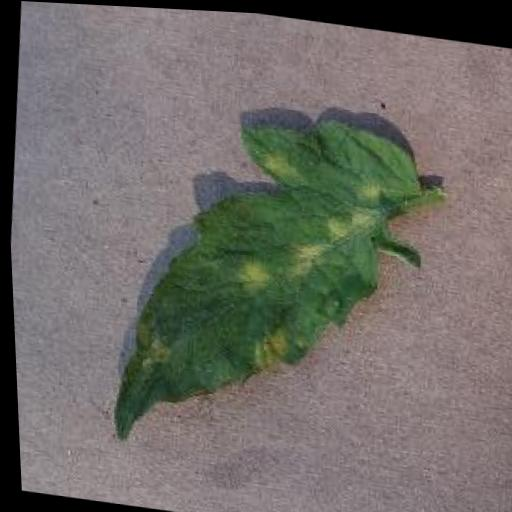Leaf Mold: (94, 86, 431, 477)
